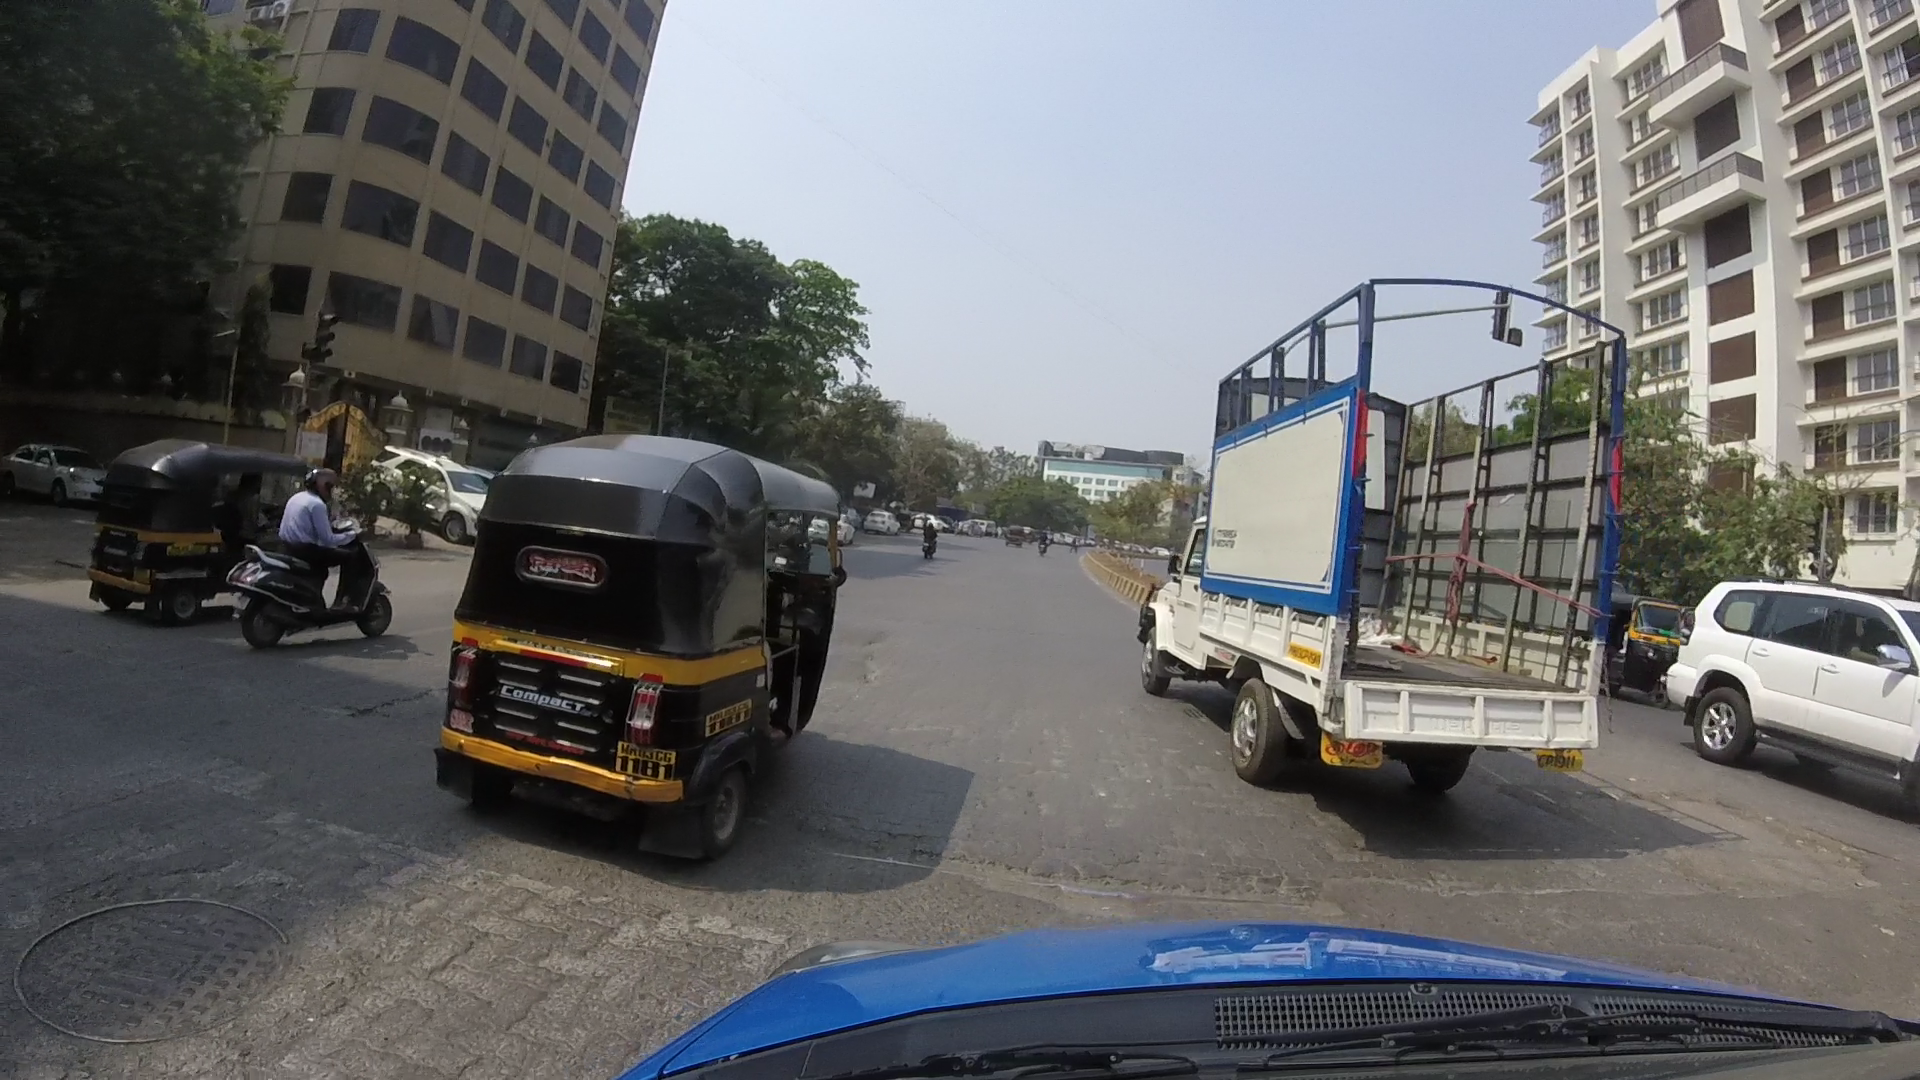bike/scooter: (237, 469, 393, 640)
car: (1665, 578, 1920, 758)
rickshaw: (429, 430, 869, 851), (84, 433, 249, 616)
truck: (1134, 272, 1615, 786)
